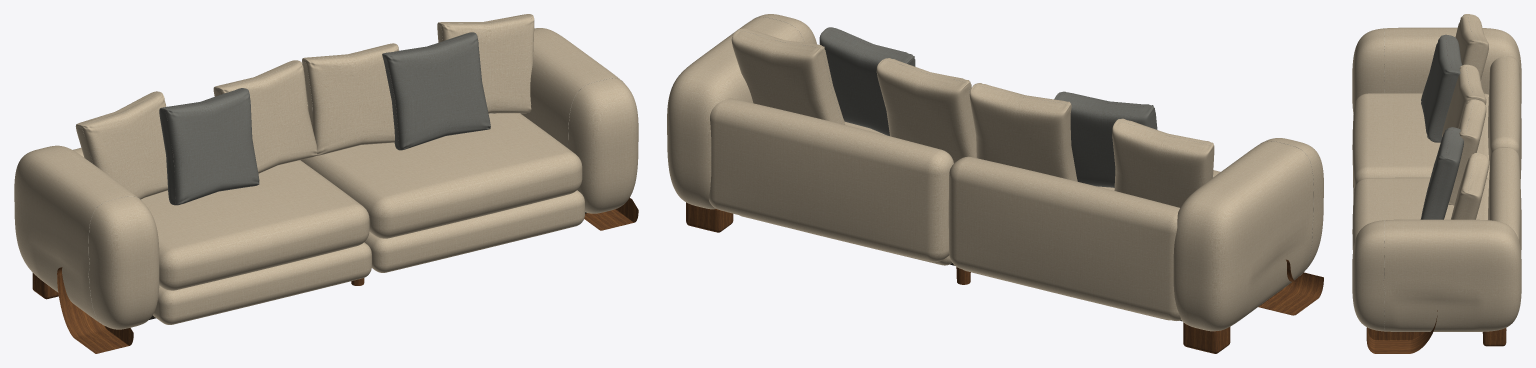
File: straight.glb
The picture shows the model from 3 angles, left to right: view 1: azimuth 30°, elevation 25°; view 2: azimuth 150°, elevation 25°; view 3: azimuth 270°, elevation 25°; orthographic projection. The views are drawn at different scales.
Visible parts, largest first — view 1: fabric, pillows, accent, legs; view 2: fabric, pillows, accent, legs; view 3: fabric, pillows, accent, legs.
Part boxes in pixels (x1,y1,x2,y2): fabric: (14, 28, 638, 329); pillows: (75, 14, 534, 199); accent: (159, 32, 490, 205); legs: (32, 198, 638, 353); fabric: (667, 14, 1323, 331); pillows: (731, 28, 1214, 207); accent: (819, 27, 1157, 187); legs: (686, 202, 1323, 353); fabric: (1352, 27, 1521, 331); pillows: (1442, 14, 1488, 219); accent: (1420, 34, 1463, 219); legs: (1366, 310, 1506, 353).
Size of the model in its own units: 3 by 0.9831 by 1.
Materials: 6 (3 with a texture image).
